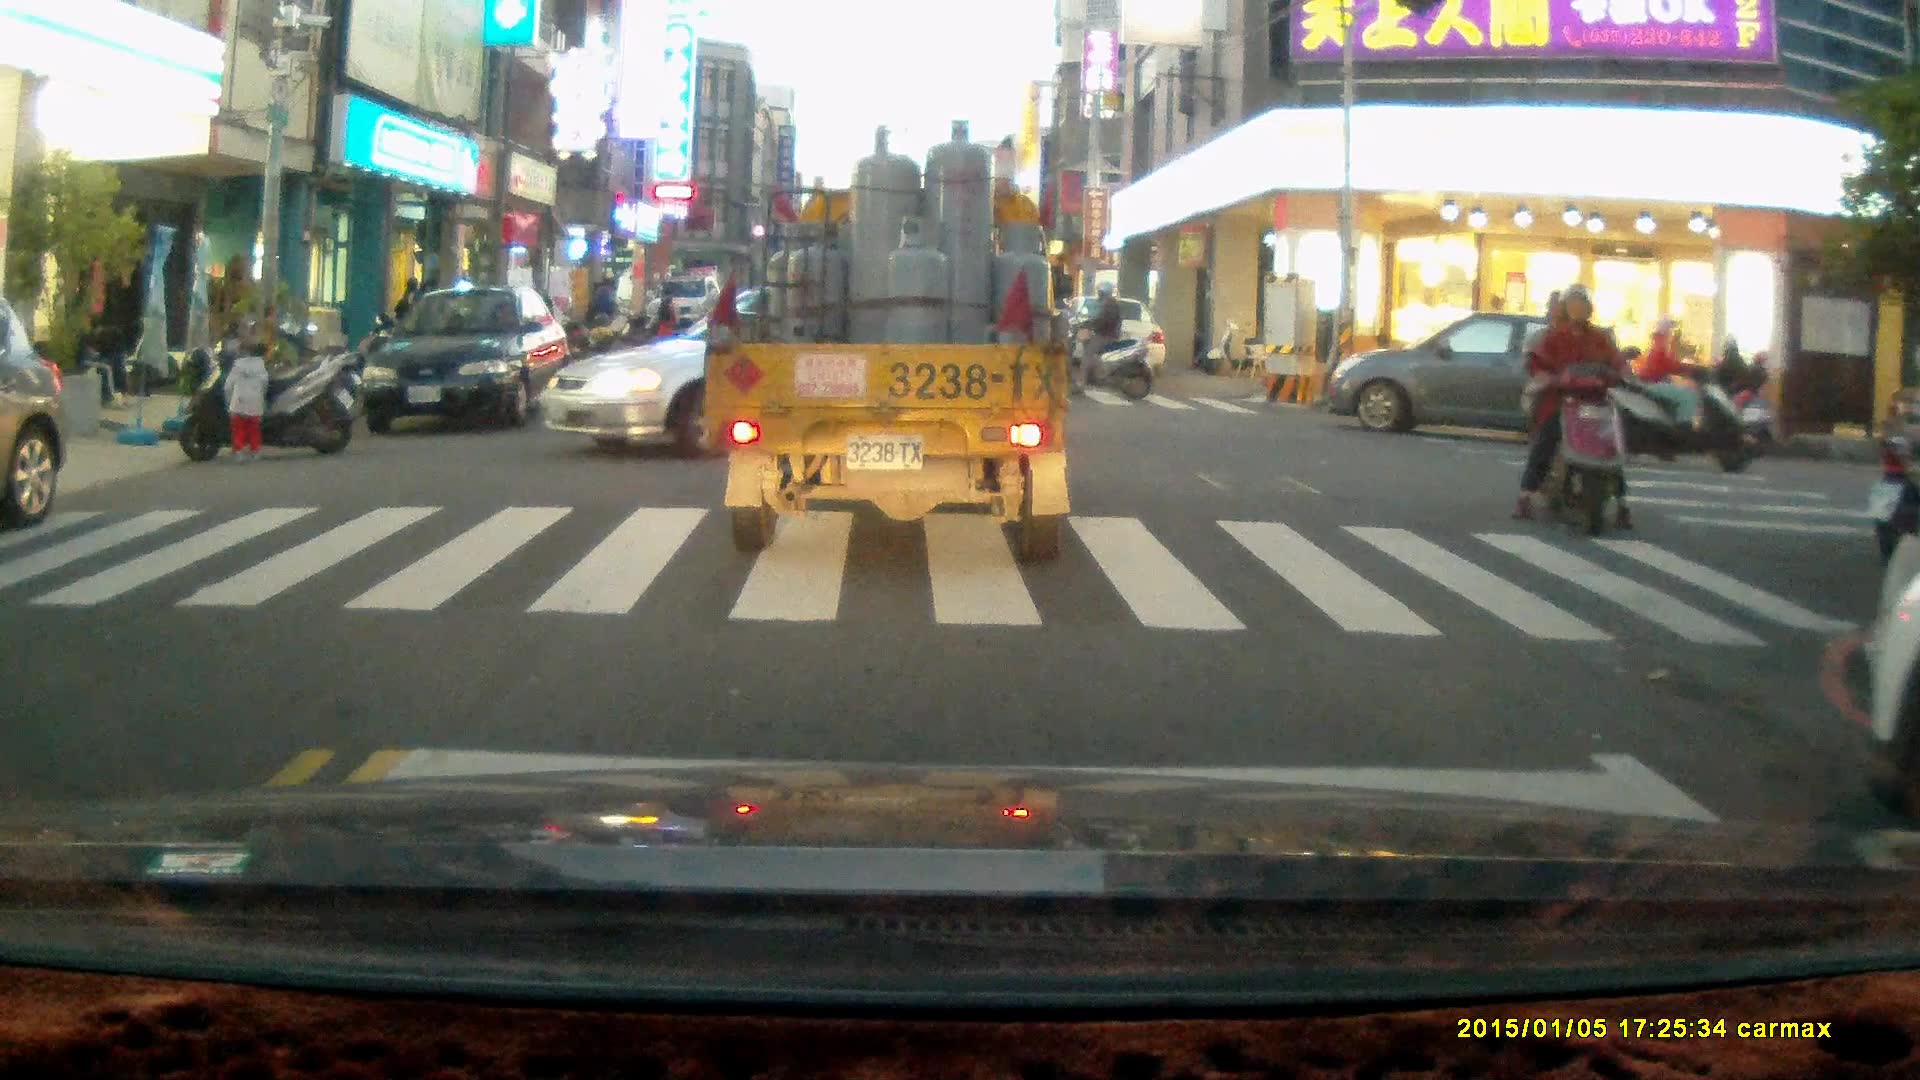pedestrian: (218, 338, 272, 465), (592, 277, 619, 339), (654, 284, 679, 342)
rider: (1507, 285, 1631, 537), (1608, 312, 1752, 469), (1665, 341, 1779, 461), (1058, 281, 1153, 402)
vehicle: (705, 119, 1072, 559), (535, 282, 1044, 452), (1317, 310, 1640, 466), (352, 286, 572, 437), (1067, 297, 1169, 383), (648, 278, 727, 333)
